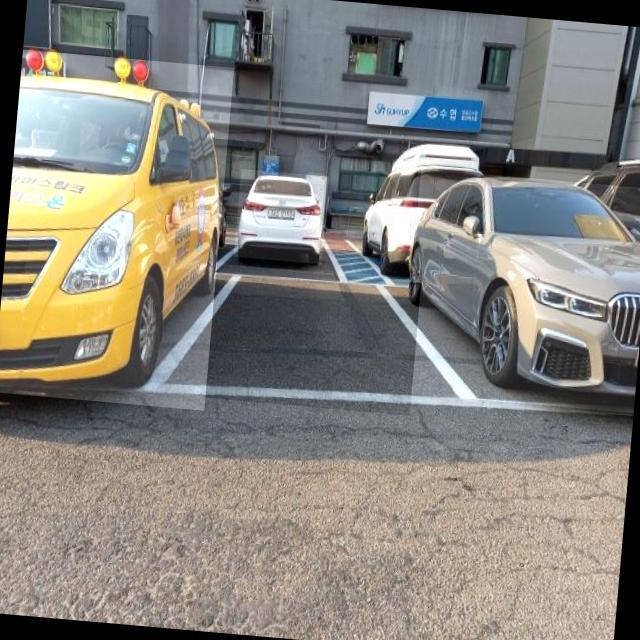empty: (204, 265, 420, 415)
occupied: (0, 49, 233, 410), (401, 168, 640, 412), (234, 169, 328, 264)
